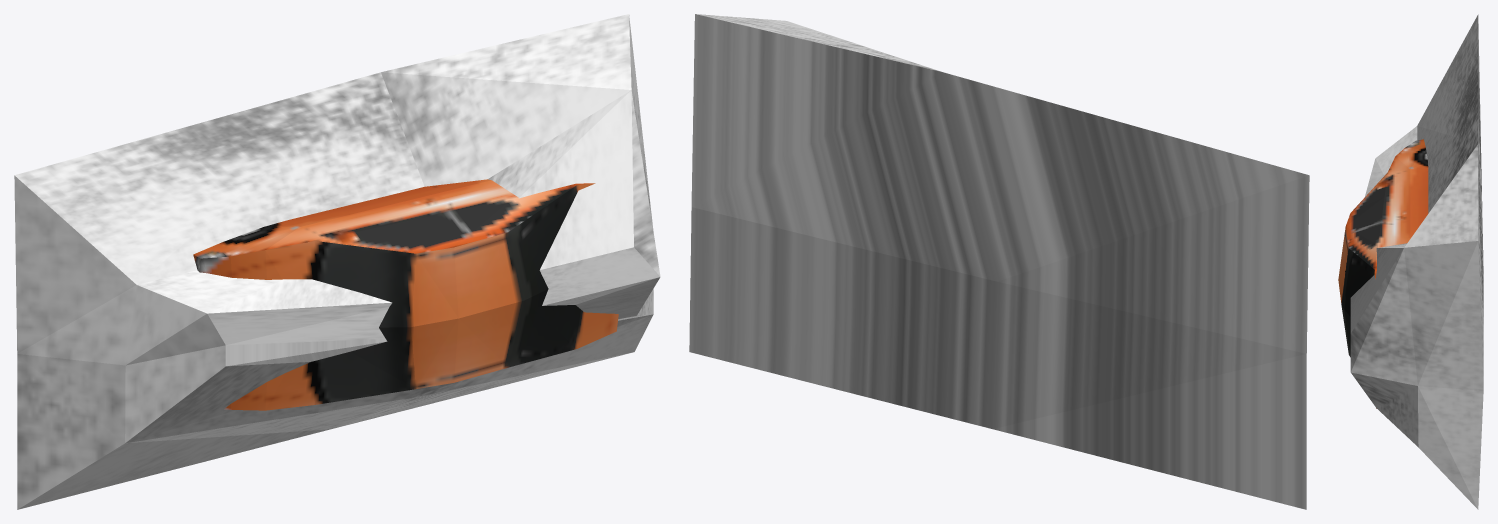
Rendered from sxcarsnowedin_wtf.obj.
The picture shows the model from 3 angles, left to right: view 1: azimuth 30°, elevation 25°; view 2: azimuth 150°, elevation 25°; view 3: azimuth 270°, elevation 25°; orthographic projection. The views are drawn at different scales.
Parts seen in each view (by area): view 1: group3, group4; view 2: group3; view 3: group3, group4.
Part boxes in pixels (x1=…): group3: x1=14, y1=14, x2=660, y2=509; group4: x1=193, y1=179, x2=618, y2=410; group3: x1=689, y1=14, x2=1309, y2=509; group3: x1=1350, y1=14, x2=1483, y2=509; group4: x1=1338, y1=139, x2=1428, y2=408.
Bounding box in the file's own units: 660 × 355 × 170.
